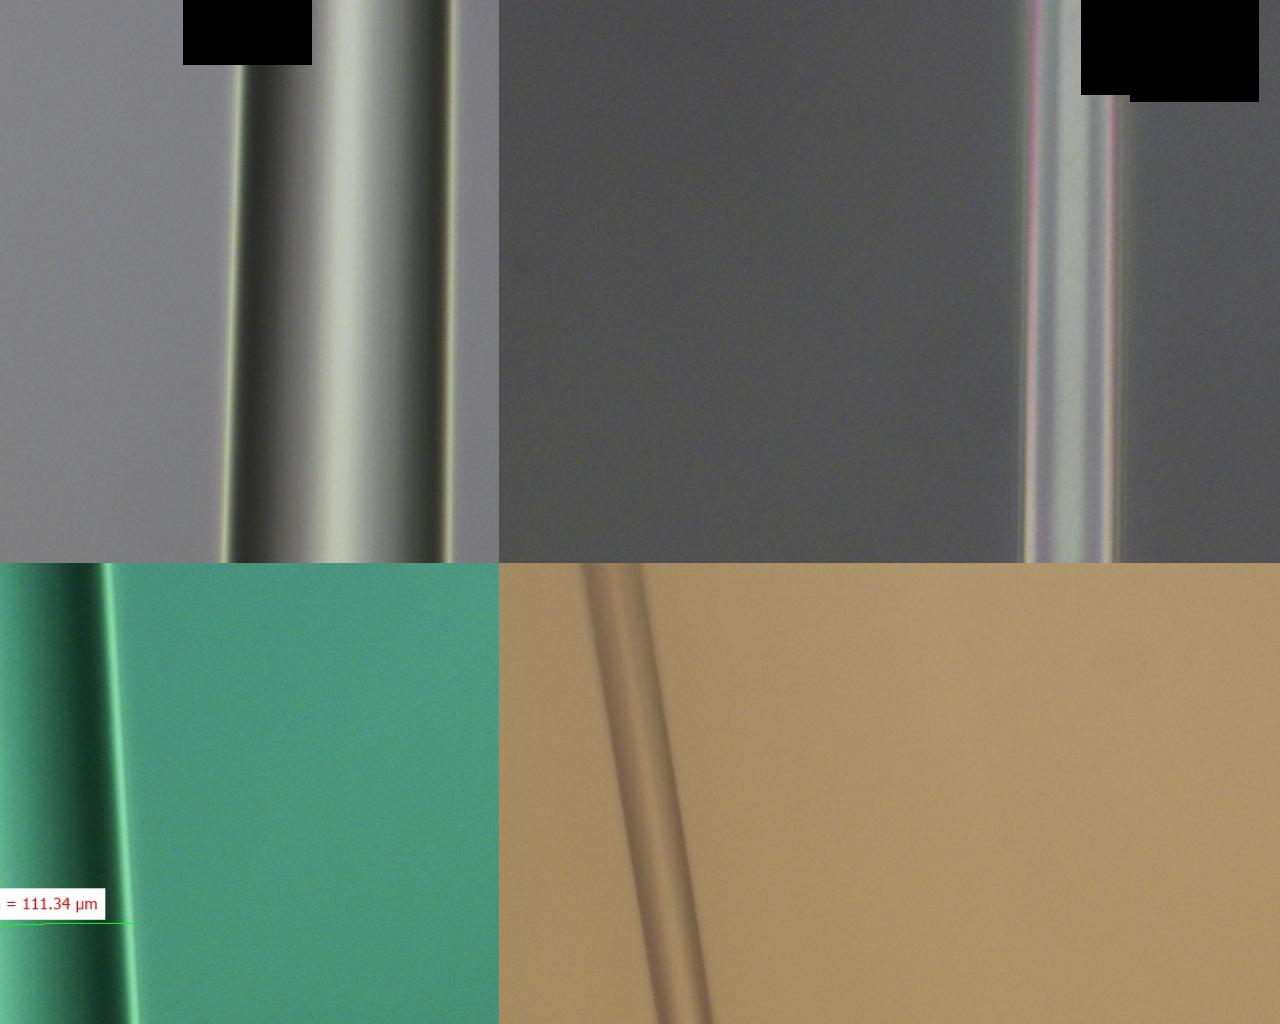fiber: (16, 858, 998, 883), (998, 82, 1280, 149)
